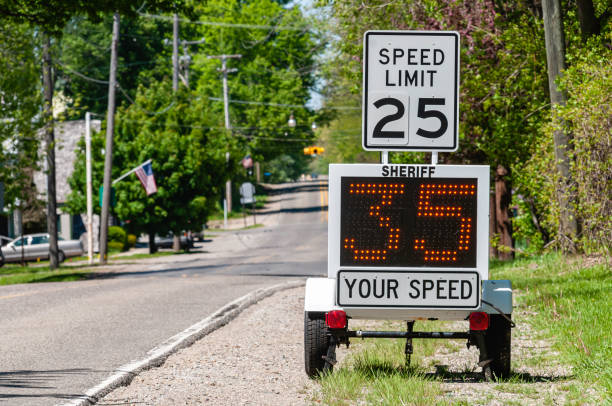SpeedLimitSign: (361, 29, 460, 152)
